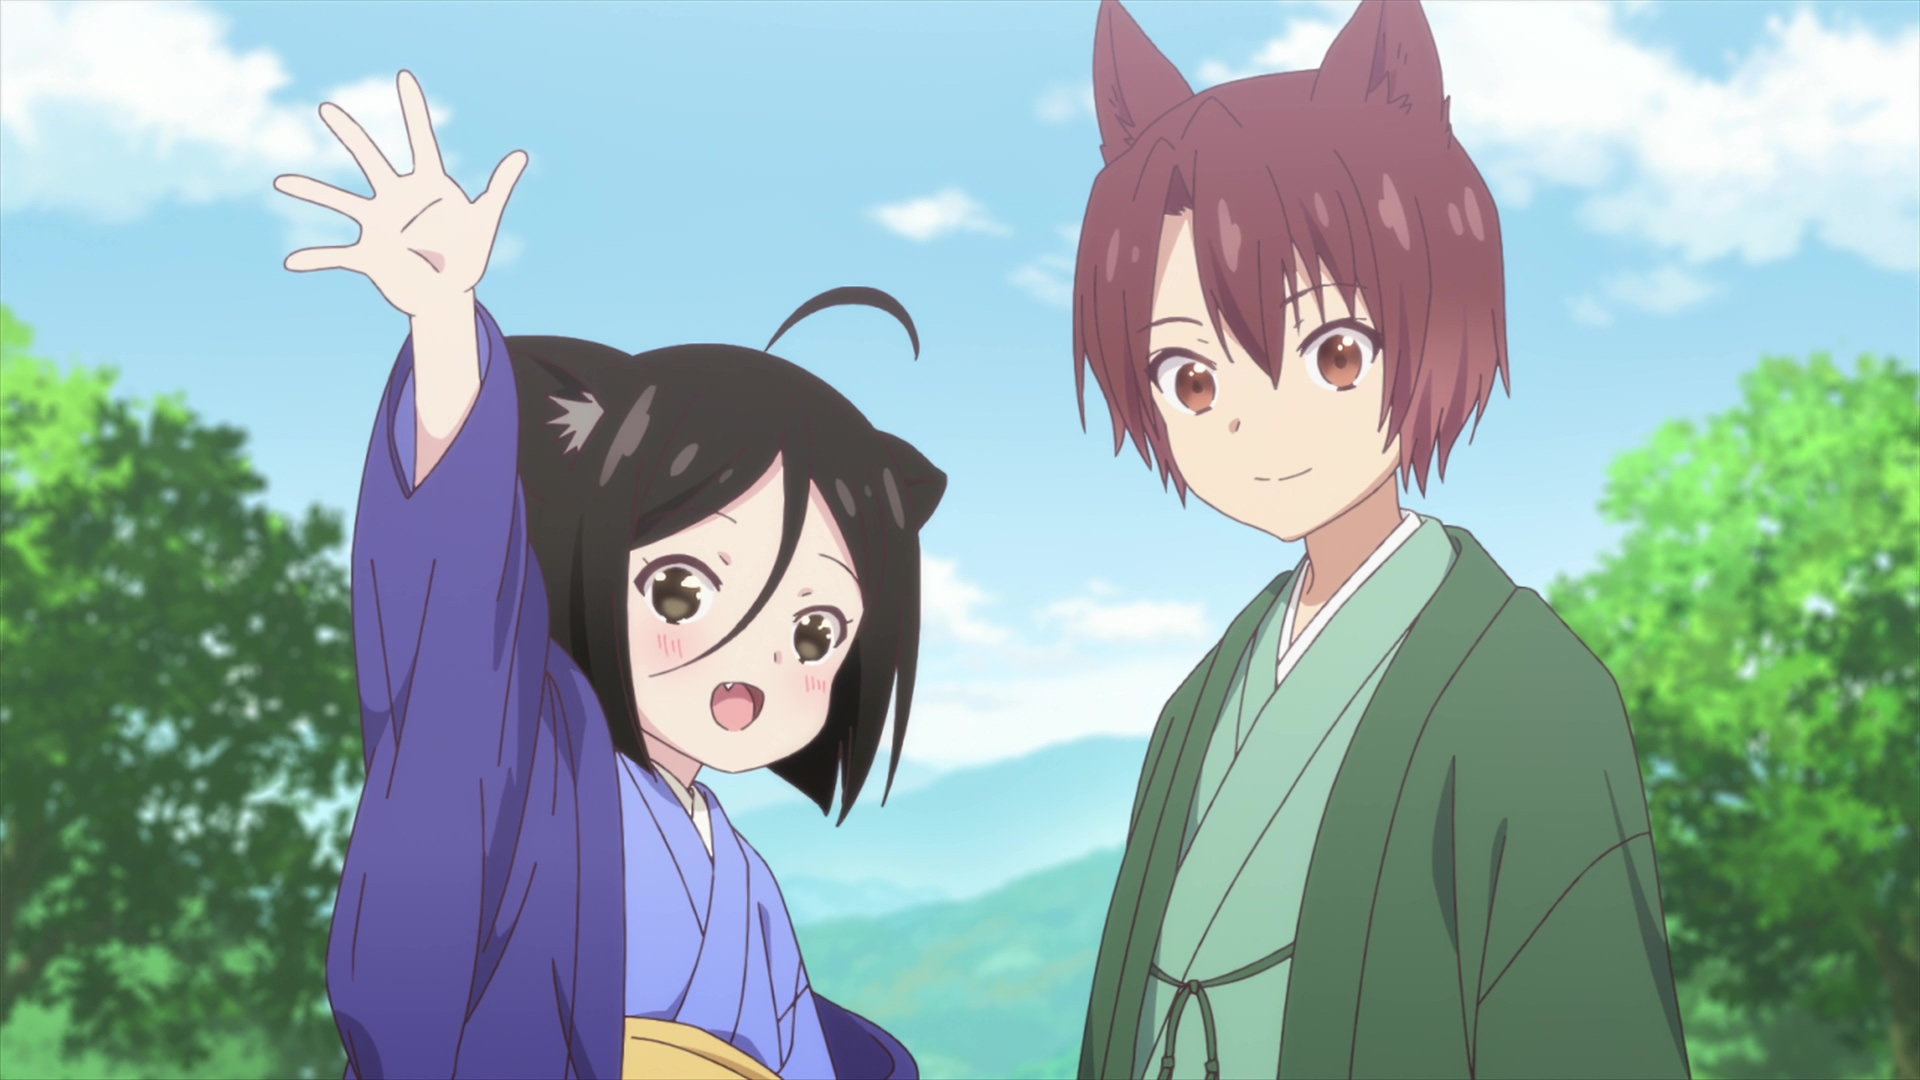其他: (274, 69, 948, 1080)
枣: (1072, 1, 1691, 1080)
